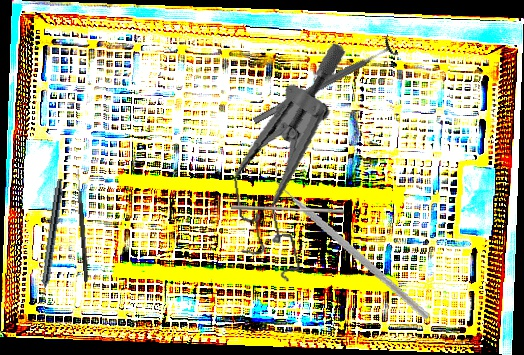Chopper: (252, 163, 452, 320)
Fixation Ring: (247, 33, 400, 132)
Handpiece: (36, 177, 65, 306)
Hook Surgical: (74, 168, 90, 283)
Pusher: (231, 205, 344, 214)
Speculum: (213, 41, 377, 291)
